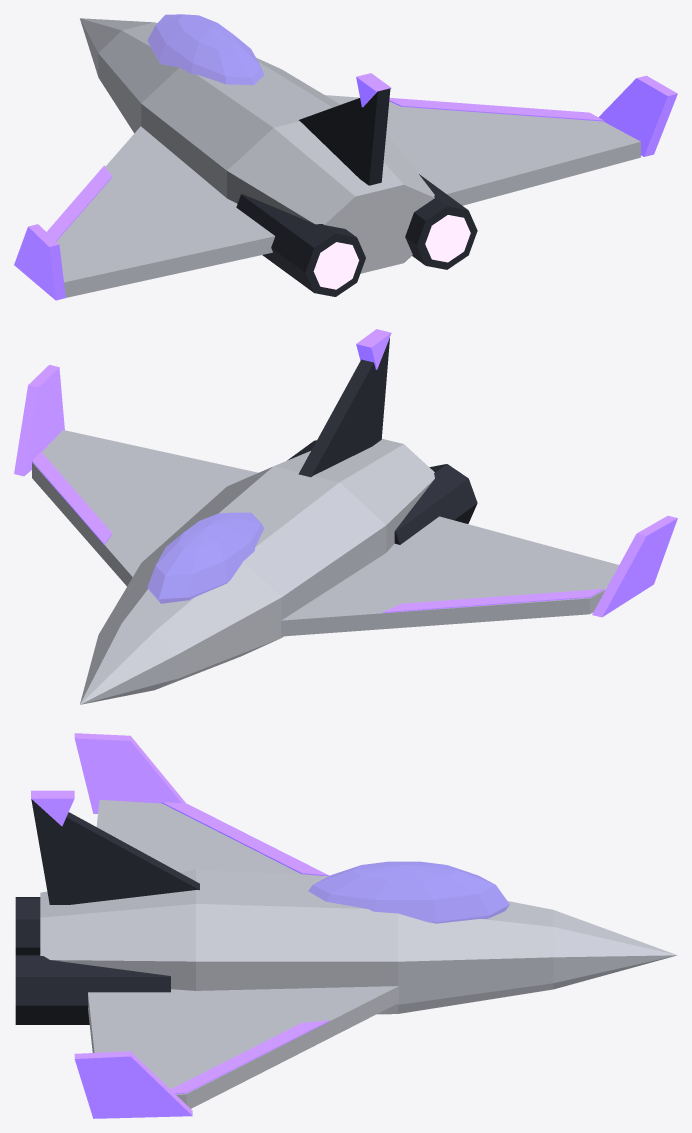
File: ship.glb
3 views of the same model, one above another, from view 1: azimuth 30°, elevation 25°; view 2: azimuth 150°, elevation 25°; view 3: azimuth 270°, elevation 25° (orthographic). The views are drawn at different scales.
Visible parts, largest first — view 1: ShipBody, EngineGlow; view 2: ShipBody; view 3: ShipBody.
Part boxes in pixels (bbox=[...]): ShipBody: bbox=[14, 14, 677, 300]; EngineGlow: bbox=[313, 215, 470, 289]; ShipBody: bbox=[14, 329, 677, 704]; ShipBody: bbox=[15, 733, 677, 1118].
Size of the model in its own units: 2.48 by 0.7333 by 2.13.
